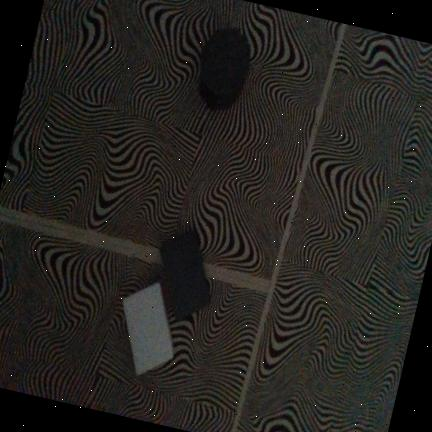Paralelepipedo: (122, 283, 175, 377), (161, 232, 210, 320), (200, 28, 251, 110)
